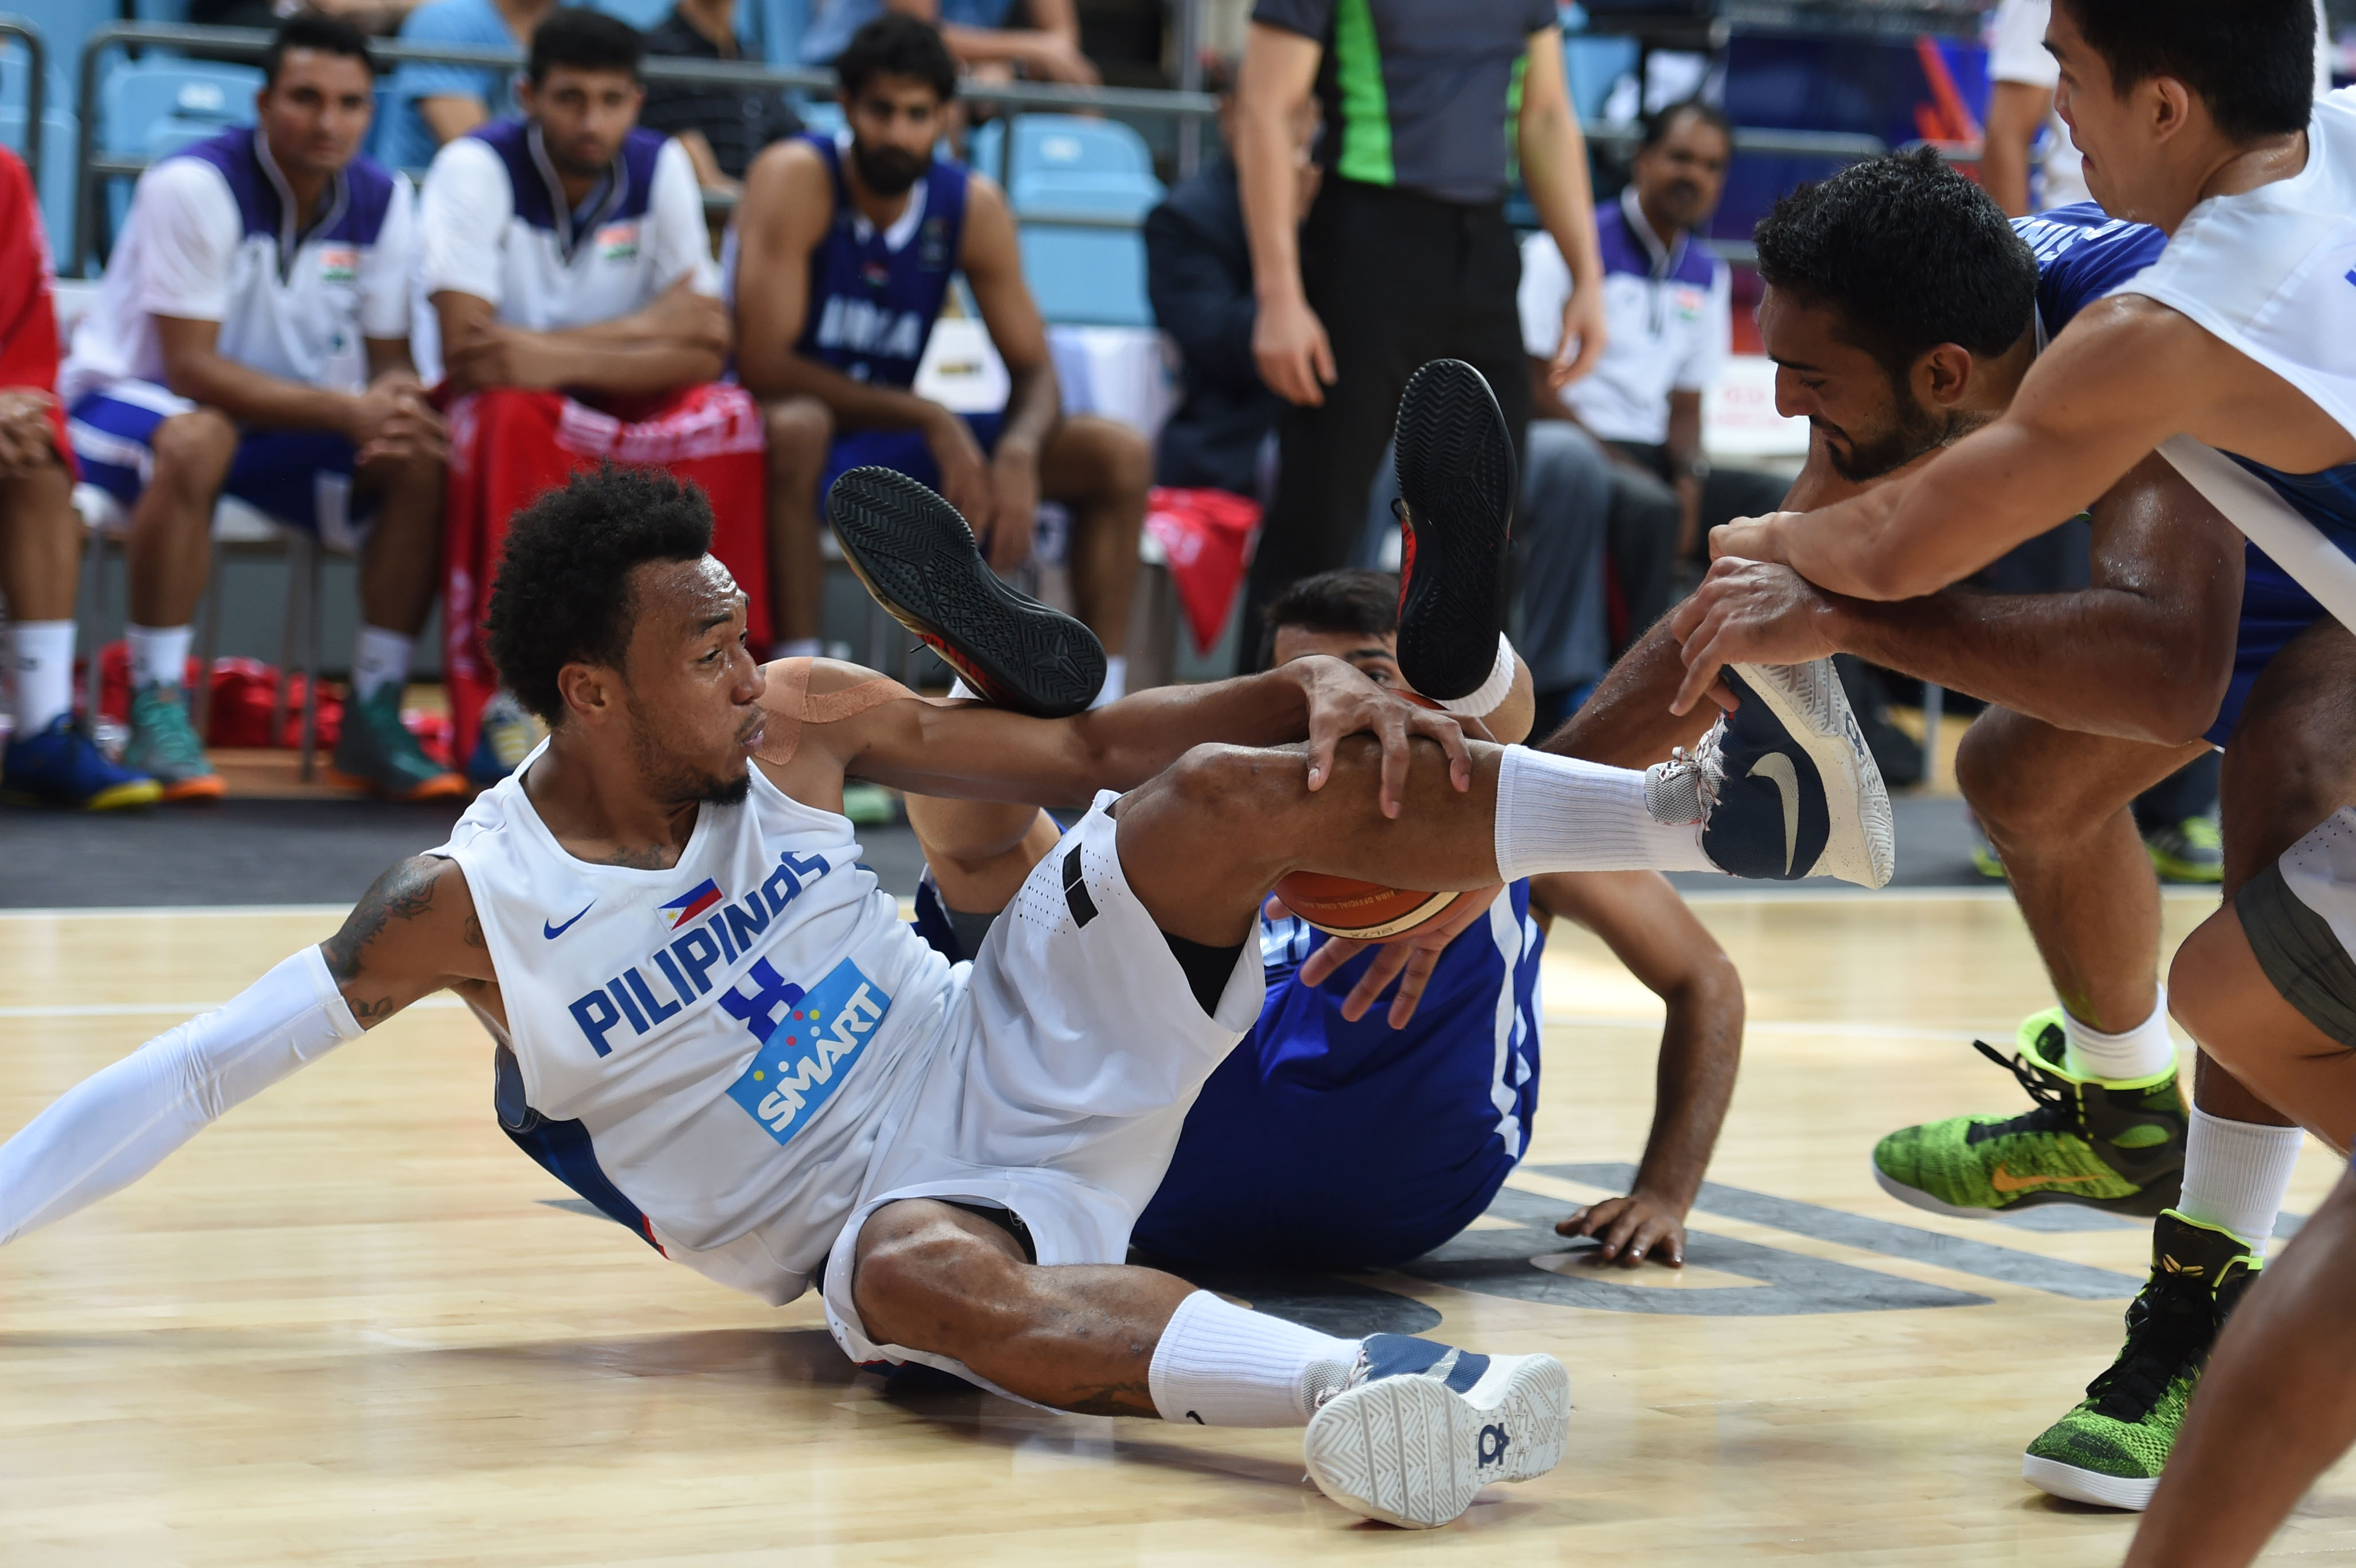10+: (19, 0, 2328, 1547)
down: (0, 444, 1920, 1552), (812, 327, 1782, 1347)
